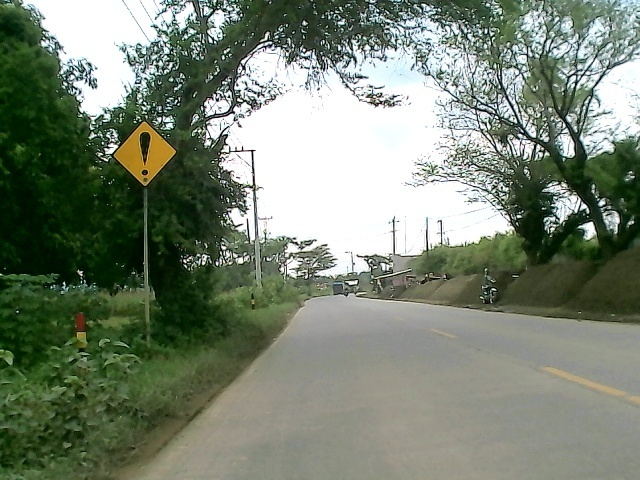Hati-hati: (109, 121, 179, 189)
